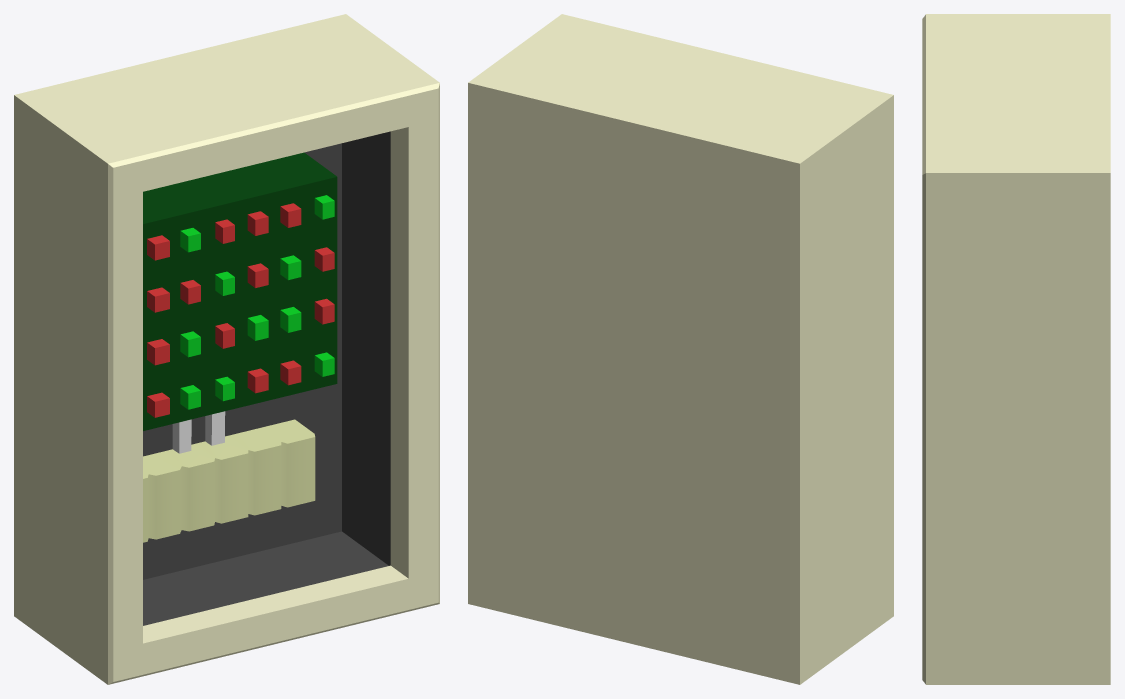
The model's file is Haidennbann_Honntai.fbx.
The picture shows the model from 3 angles, left to right: view 1: azimuth 30°, elevation 25°; view 2: azimuth 150°, elevation 25°; view 3: azimuth 270°, elevation 25°; orthographic projection.
Parts seen in each view (by area): view 1: polySurface2; view 2: polySurface2; view 3: polySurface2.
Part boxes in pixels (x1=…): polySurface2: x1=14, y1=14, x2=439, y2=684; polySurface2: x1=468, y1=14, x2=893, y2=684; polySurface2: x1=922, y1=14, x2=1110, y2=684.
Bounding box in the file's own units: 200 × 300 × 100.
Materials: 1 (1 with a texture image).
